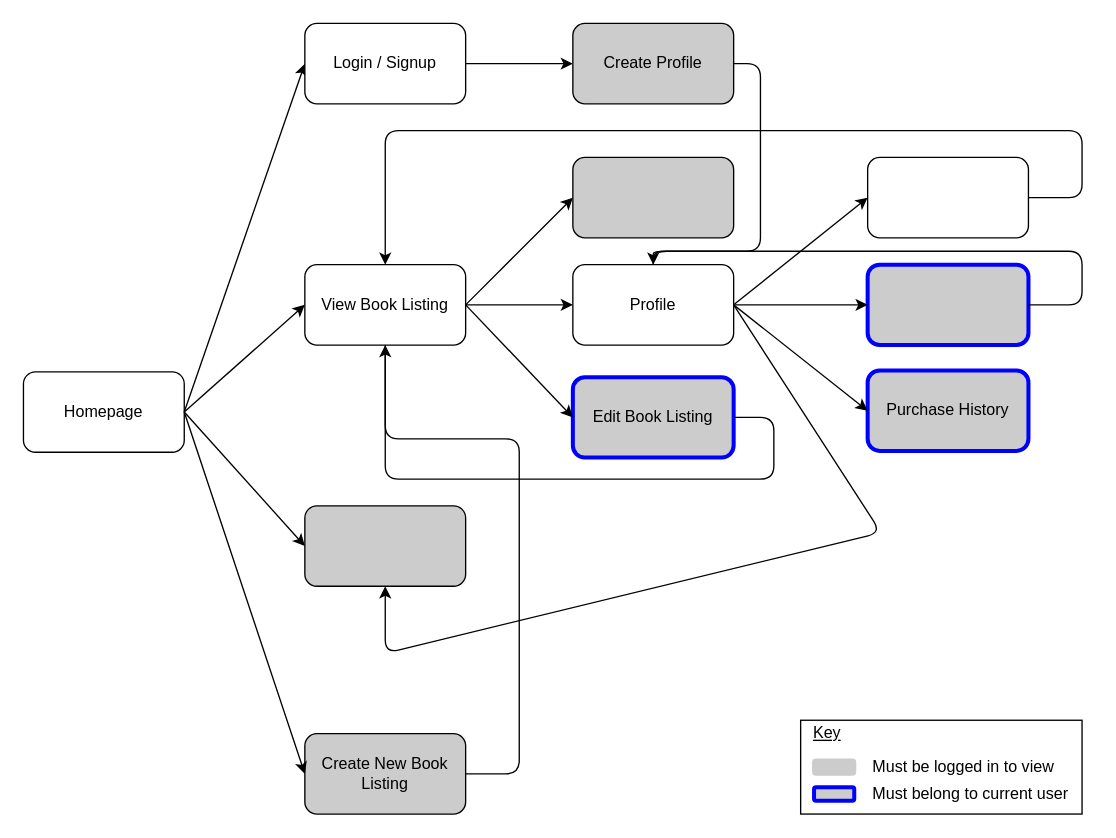
This 1116x838 diagram has some shape labels left out. The centre of each missing label's shape, as x and y in pixels:
Buy: the point at 653,197
Edit Profile: the point at 947,304
Messages: the point at 385,545
Seller's Book Listings: the point at 947,197
